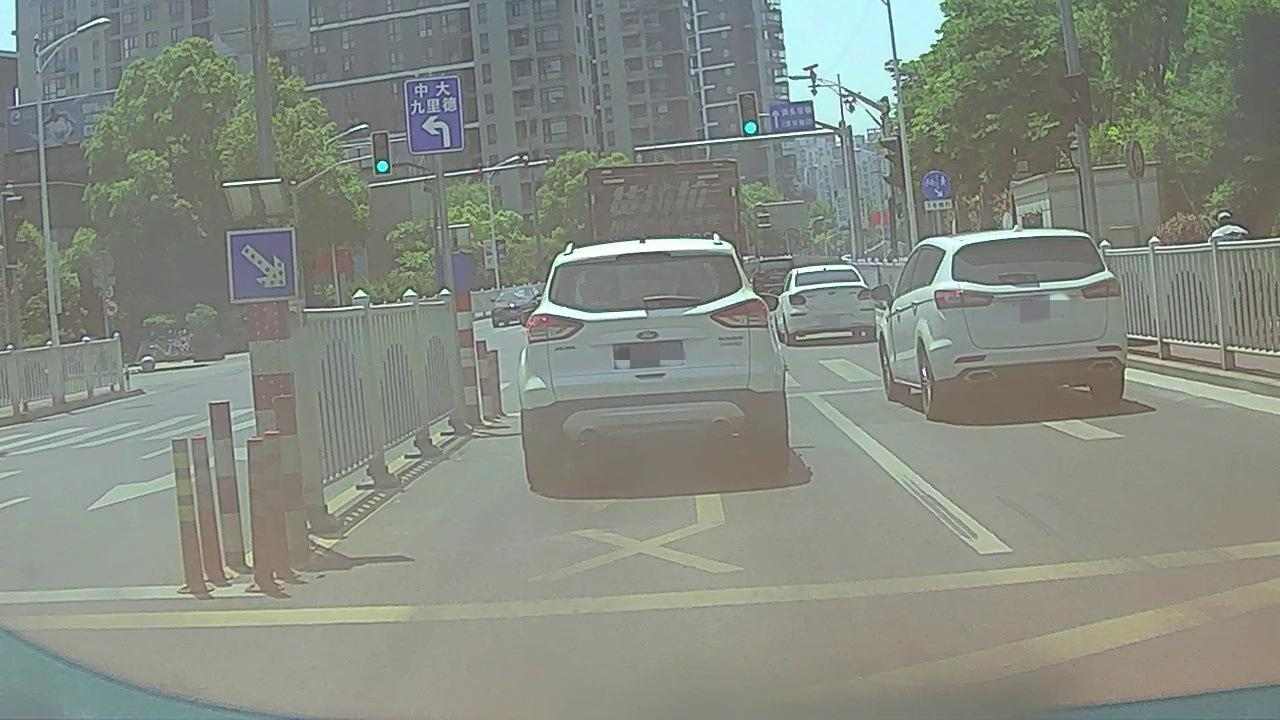traffic_light: (740, 94, 758, 136), (374, 133, 389, 175)
